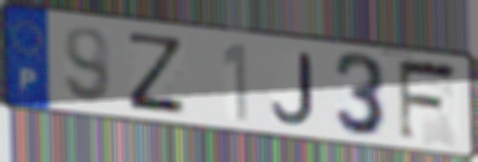1: (221, 41, 250, 124)
3: (332, 51, 391, 141)
9: (60, 25, 113, 107)
F: (394, 56, 462, 145)
J: (269, 51, 317, 127)
Z: (126, 29, 189, 117)
